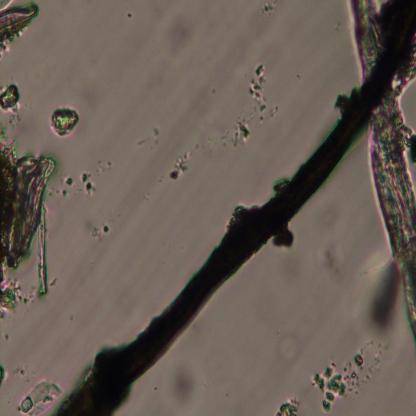Background material: (0, 146, 55, 310), (311, 336, 389, 415), (361, 258, 403, 335), (159, 351, 203, 409), (166, 7, 197, 61), (16, 382, 62, 414), (316, 240, 352, 278), (247, 62, 272, 116), (51, 107, 79, 137), (0, 110, 22, 148), (169, 150, 192, 183), (139, 125, 167, 152), (283, 336, 304, 370), (0, 80, 22, 112), (80, 219, 104, 247), (57, 173, 79, 201), (276, 394, 302, 414), (232, 119, 250, 145), (81, 170, 96, 198), (260, 2, 278, 16), (12, 364, 27, 379), (0, 363, 6, 385), (103, 223, 110, 236), (126, 10, 133, 19)
Cellulose filter fibre: (348, 1, 416, 337)
Cotton: (53, 19, 410, 414)
Diatom: (0, 2, 39, 51)
